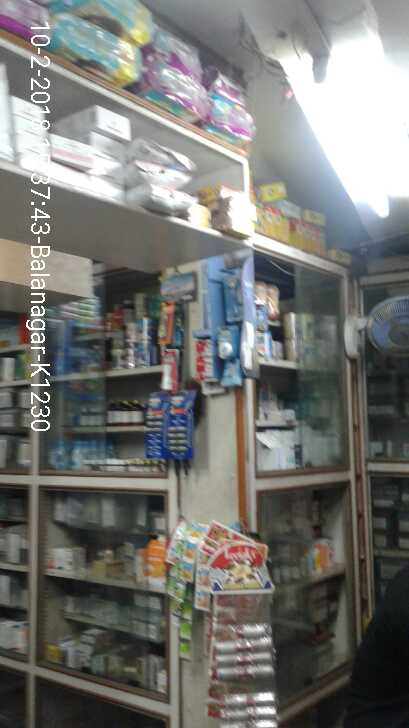reject: (173, 266, 256, 373)
